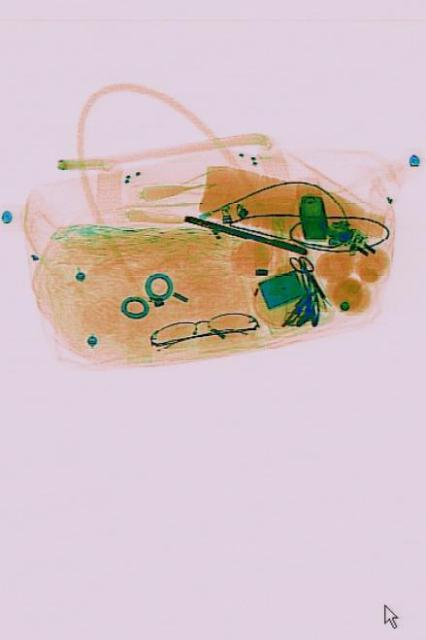Scissors: (284, 243, 327, 307)
